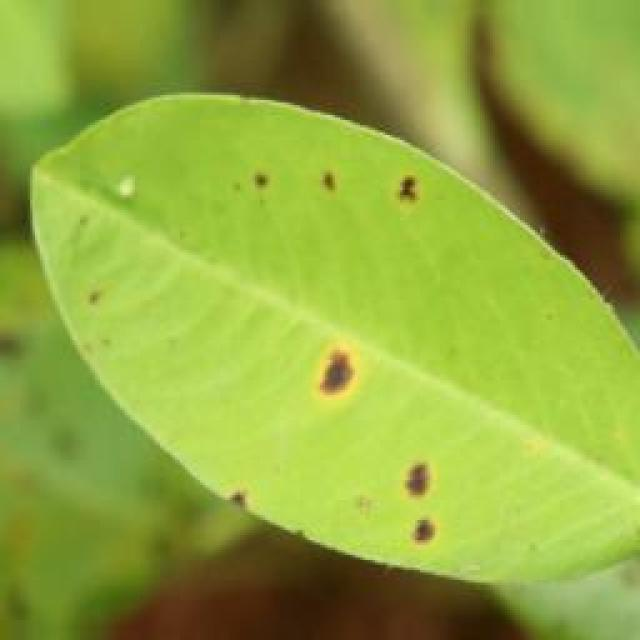Sigatoka: (295, 155, 432, 225), (368, 437, 440, 559), (275, 324, 363, 407), (74, 257, 135, 343), (238, 156, 301, 213), (217, 472, 266, 509)
